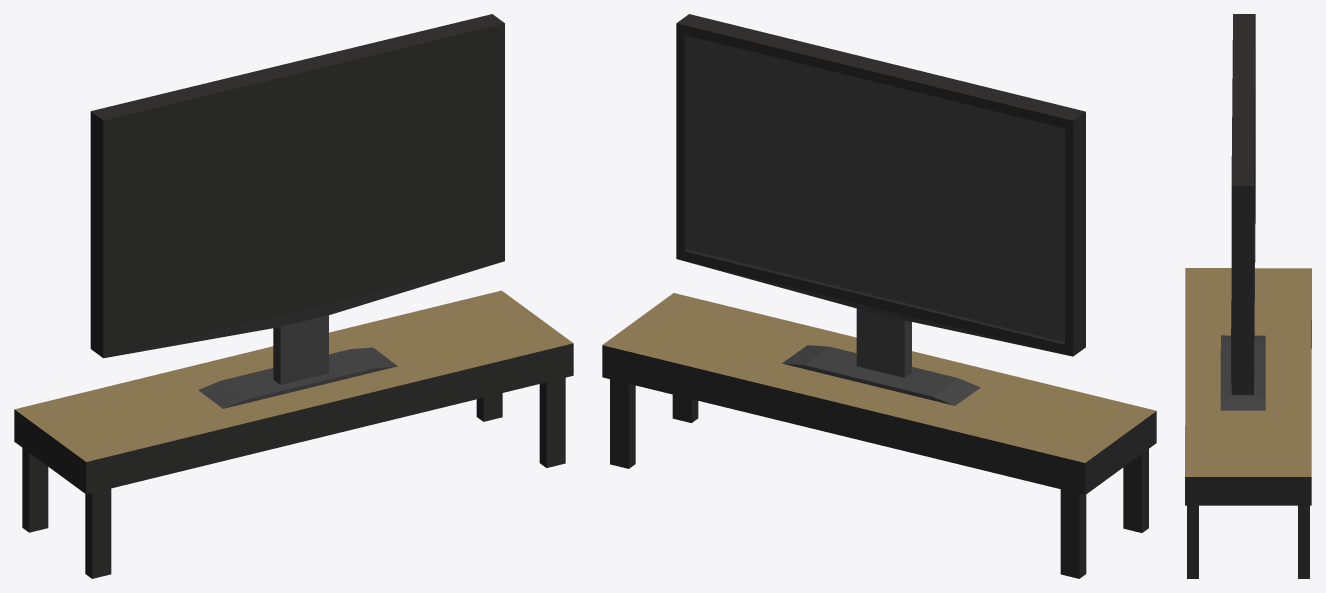
3 renders of one model, left to right at view 1: azimuth 30°, elevation 25°; view 2: azimuth 150°, elevation 25°; view 3: azimuth 270°, elevation 25°, orthographic. The views are drawn at different scales.
Parts seen in each view (by area): view 1: Cube; view 2: Cube; view 3: Cube.
Boxes of the visible parts, x1,y1,x2,y2 form: Cube: (14, 14, 573, 578); Cube: (602, 14, 1156, 578); Cube: (1185, 14, 1311, 578).
Size of the model in its own units: 176 by 148 by 45.1.
